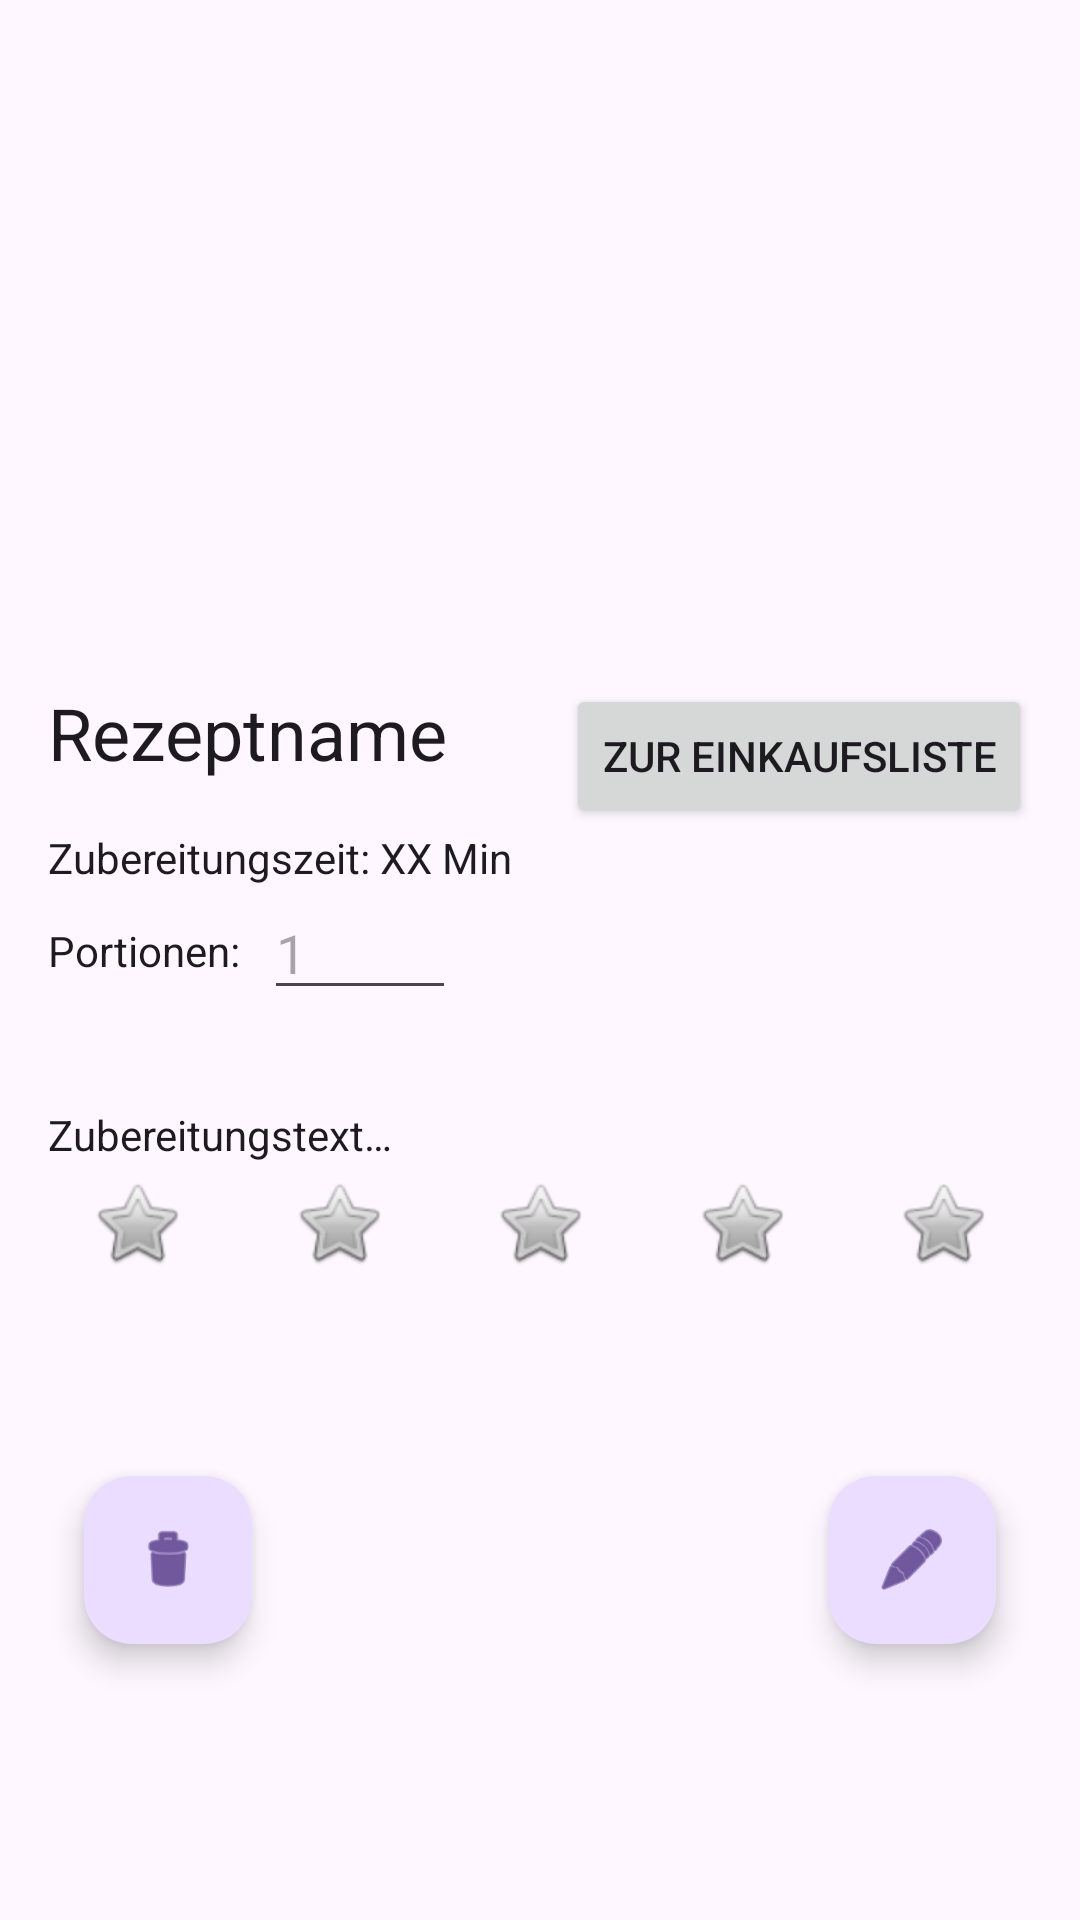

Where to tap for icons on this 1080x1920 app screen, as [x,y]:
Bearbeiten: [912,1560]
Löschen: [168,1560]
star off: [138,1224], [340,1224], [541,1224], [743,1224], [944,1224]
